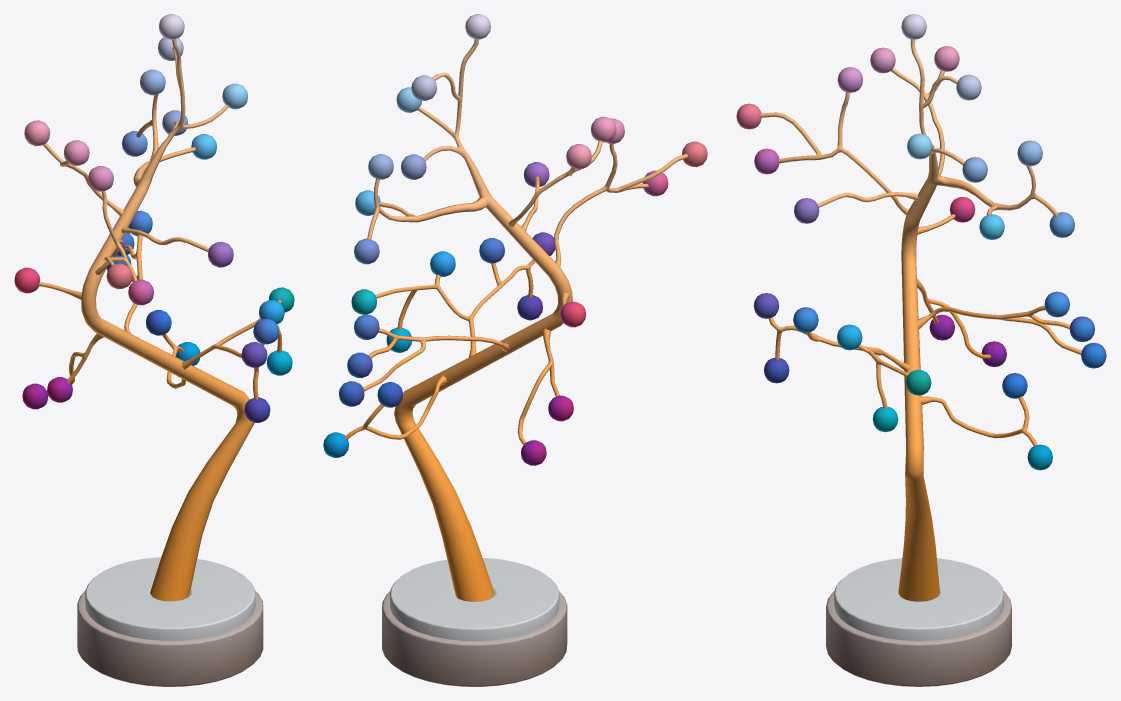
Rendered from Night_Lamp_02.fbx.
The picture shows the model from 3 angles, left to right: view 1: azimuth 30°, elevation 25°; view 2: azimuth 150°, elevation 25°; view 3: azimuth 270°, elevation 25°; orthographic projection.
Visible parts, largest first — view 1: Night_Lamp_02; view 2: Night_Lamp_02; view 3: Night_Lamp_02.
Boxes of the visible parts, x1,y1,x2,y2 form: Night_Lamp_02: (14, 14, 294, 686); Night_Lamp_02: (323, 14, 707, 686); Night_Lamp_02: (736, 14, 1106, 686).
Size of the model in its own units: 25.22 by 56.86 by 30.14.
